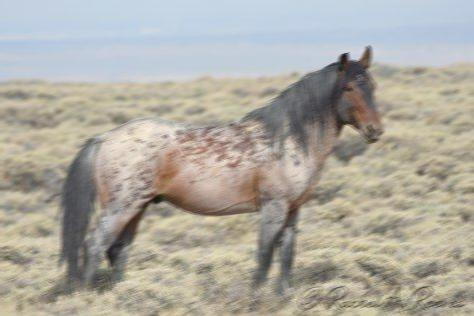horse: (52, 44, 384, 301)
